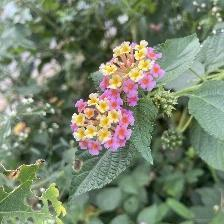common lanthana: (70, 93, 136, 156)
